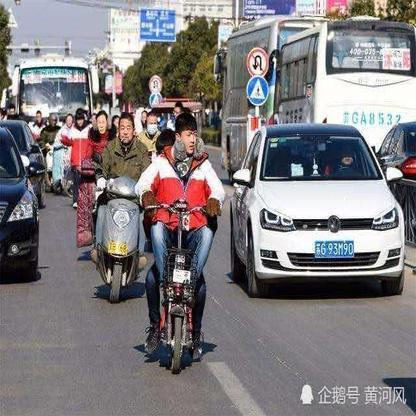target: (135, 113, 226, 375), (94, 112, 146, 303)
